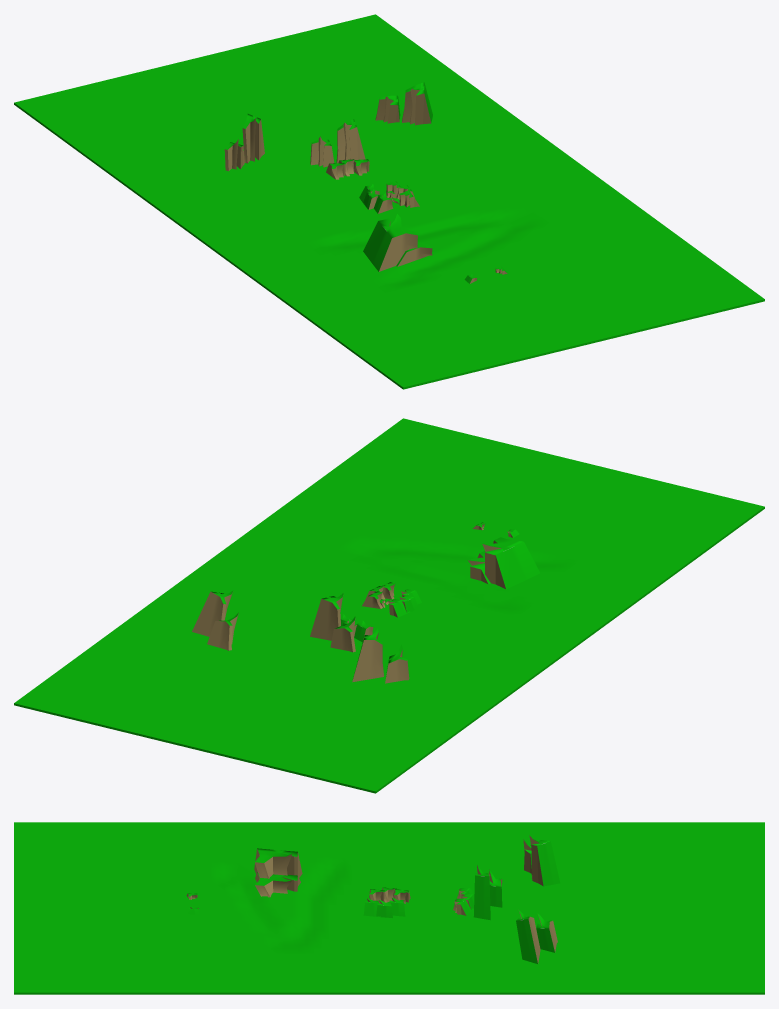
The model's file is sonic_cd_level_draft_a.fbx.
3 renders of one model, top to bottom at view 1: azimuth 30°, elevation 25°; view 2: azimuth 150°, elevation 25°; view 3: azimuth 270°, elevation 25°, orthographic. The views are drawn at different scales.
Parts seen in each view (by area): view 1: pCube2, pasted__pasted__pasted__pasted__pCube1, pasted__pasted__pasted__pasted__pasted__pasted__pasted__pCub, pasted__pasted__pasted__pasted__pasted__pCube1, pasted__pasted__pasted__pasted__pasted__pasted__pCube1; view 2: pCube2, pasted__pasted__pasted__pasted__pCube1, pasted__pasted__pasted__pasted__pasted__pasted__pCube1 (×2), pasted__pasted__pasted__pasted__pasted__pCube1, pasted__pasted__pasted__pasted__pasted__pasted__pasted__pCub; view 3: pCube2, pasted__pasted__pasted__pasted__pasted__pasted__pCube1 (×2), pasted__pasted__pasted__pasted__pCube1 (×2), pasted__pasted__pasted__pasted__pasted__pCube1 (×2), pasted__pasted__pasted__pasted__pasted__pasted__pasted__pCub.
Boxes of the visible parts, x1,y1,x2,y2 form: pCube2: [14, 14, 764, 389]; pasted__pasted__pasted__pasted__pCube1: [363, 214, 417, 271]; pasted__pasted__pasted__pasted__pasted__pasted__pasted__pCub: [402, 82, 432, 125]; pasted__pasted__pasted__pasted__pasted__pCube1: [336, 119, 365, 163]; pasted__pasted__pasted__pasted__pasted__pasted__pCube1: [242, 114, 264, 163]; pCube2: [14, 418, 764, 793]; pasted__pasted__pasted__pasted__pCube1: [482, 537, 539, 589]; pasted__pasted__pasted__pasted__pasted__pasted__pCube1 (×2): [207, 612, 383, 682]; pasted__pasted__pasted__pasted__pasted__pCube1: [310, 593, 343, 640]; pasted__pasted__pasted__pasted__pasted__pasted__pasted__pCub: [192, 591, 232, 636]; pCube2: [14, 822, 764, 994]; pasted__pasted__pasted__pasted__pasted__pasted__pCube1 (×2): [529, 835, 559, 952]; pasted__pasted__pasted__pasted__pCube1 (×2): [254, 848, 502, 907]; pasted__pasted__pasted__pasted__pasted__pCube1 (×2): [255, 865, 490, 920]; pasted__pasted__pasted__pasted__pasted__pasted__pasted__pCub: [516, 909, 540, 963].
Size of the model in its own units: 181 by 38.95 by 337.
